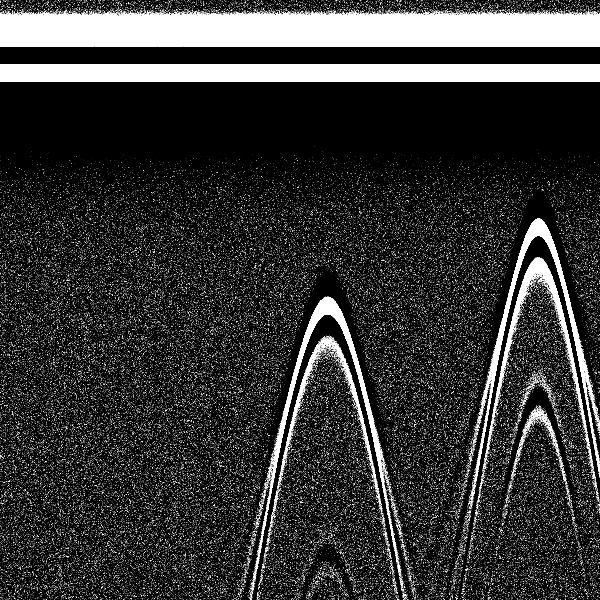pipe: (276, 6, 379, 389), (490, 5, 584, 305)
